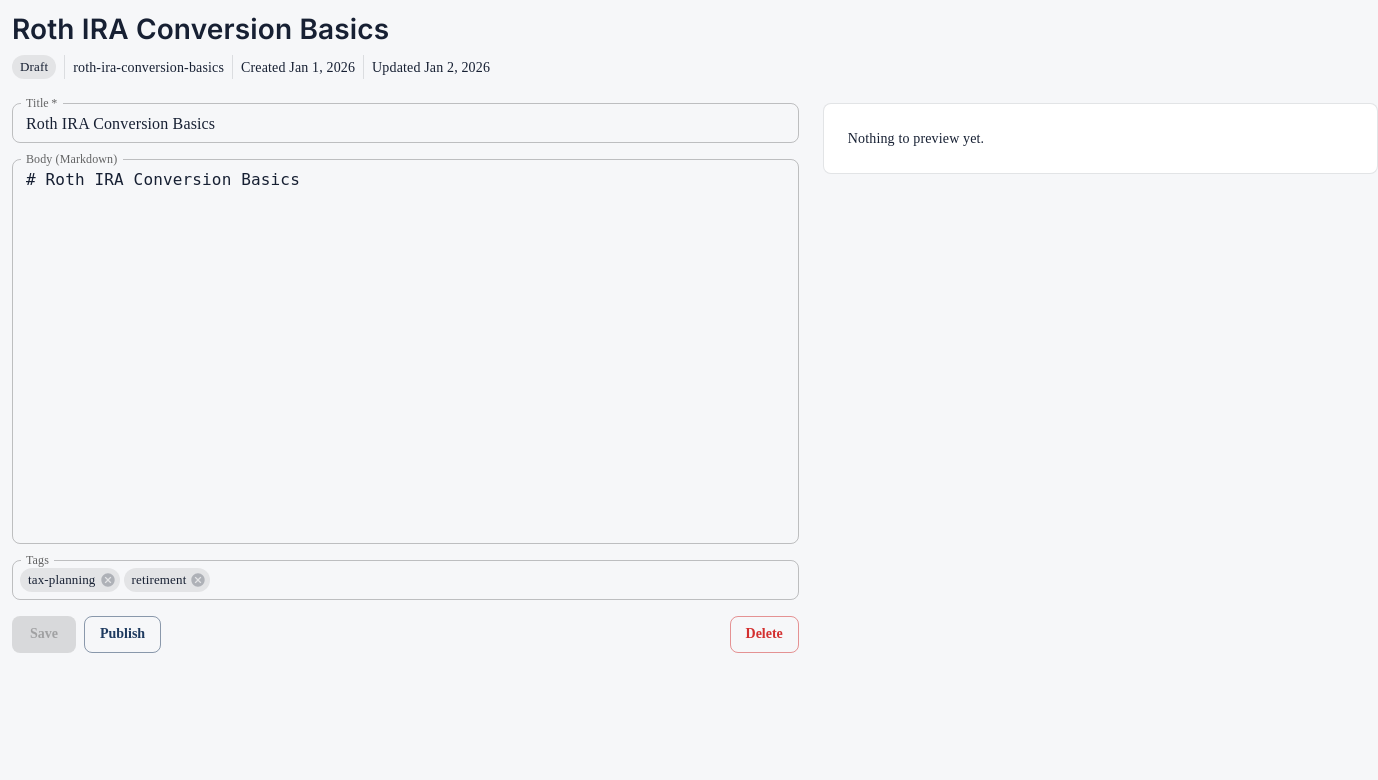
Scenario: ContentEditorScreen tag-order-insensitive dirty tracking › Save re-disables after a refetch echoes the same tags back sorted alphabetically
Replace the text in the field labelled "Title *" with "Changed Title": (405, 123) [12,103,799,143]
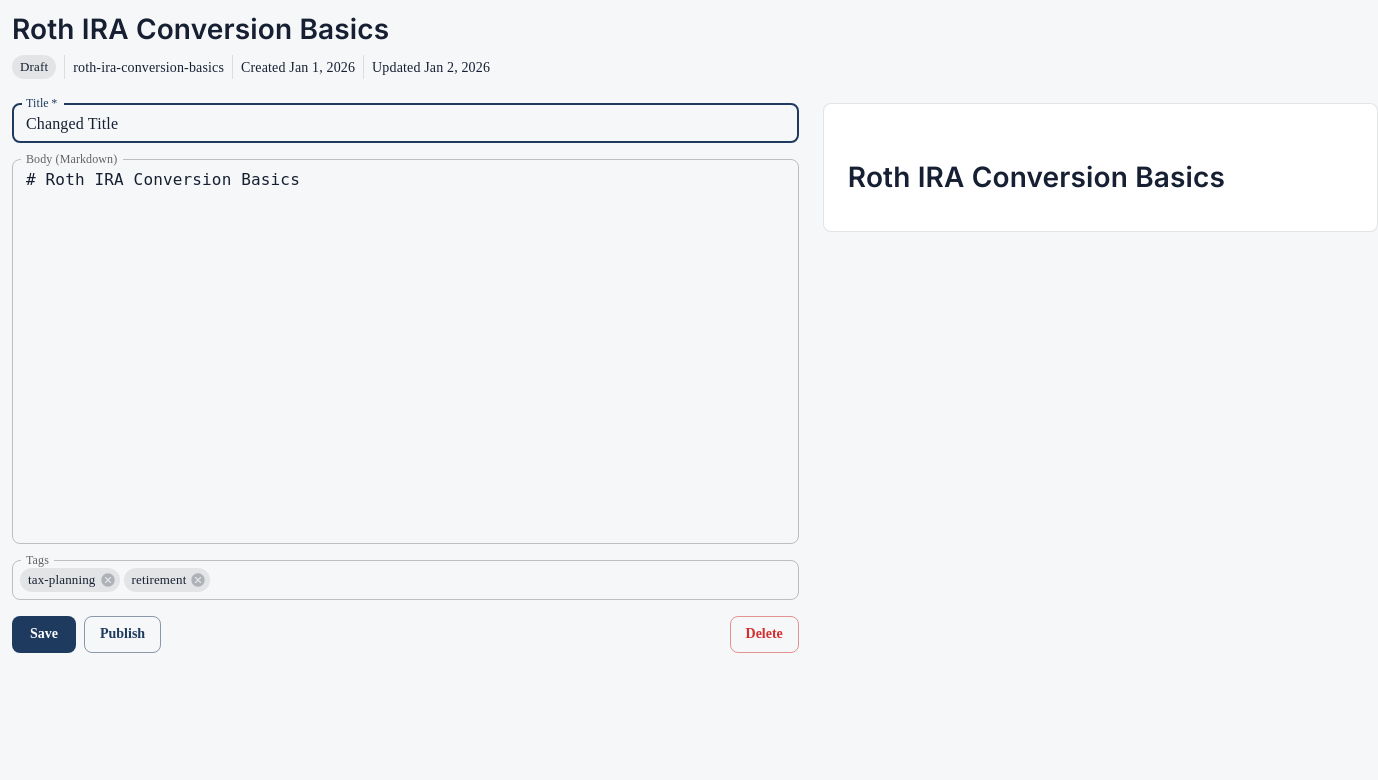
Expected: the button "Save" is enabled
Click the button "Save": (44, 634) [12,616,76,652]
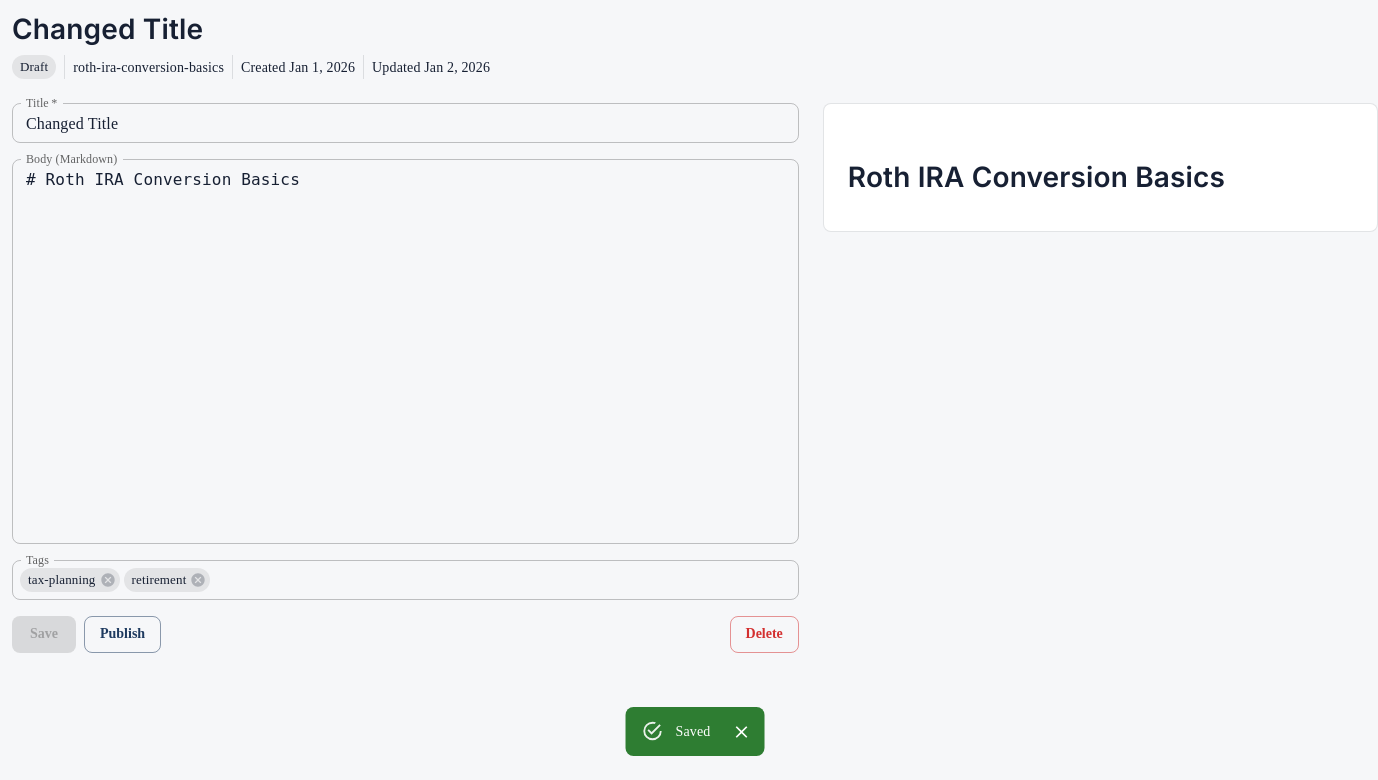
Expected: the button "Save" is disabled, [12,616,76,652]
